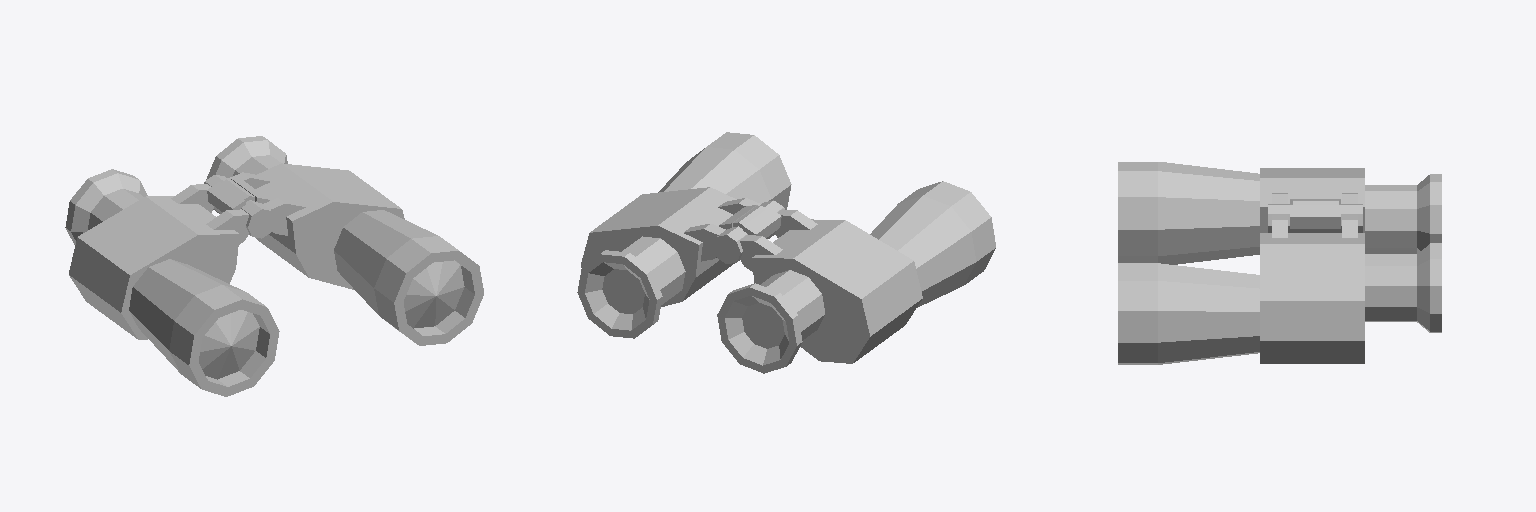
File: Binoculars_A__3.obj
The picture shows the model from 3 angles: view 1: azimuth 30°, elevation 25°; view 2: azimuth 150°, elevation 25°; view 3: azimuth 270°, elevation 25°; orthographic projection.
Parts seen in each view (by area): view 1: Cylinder1, Cylinder7; view 2: Cylinder1, Cylinder7; view 3: Cylinder1, Cylinder7.
Boxes of the visible parts, x1,y1,x2,y2 form: Cylinder1: [65, 136, 483, 396]; Cylinder7: [204, 175, 275, 238]; Cylinder1: [577, 132, 995, 373]; Cylinder7: [713, 200, 784, 263]; Cylinder1: [1118, 162, 1441, 364]; Cylinder7: [1268, 204, 1362, 232].
Size of the model in its own units: 6.47 by 2.31 by 6.14.